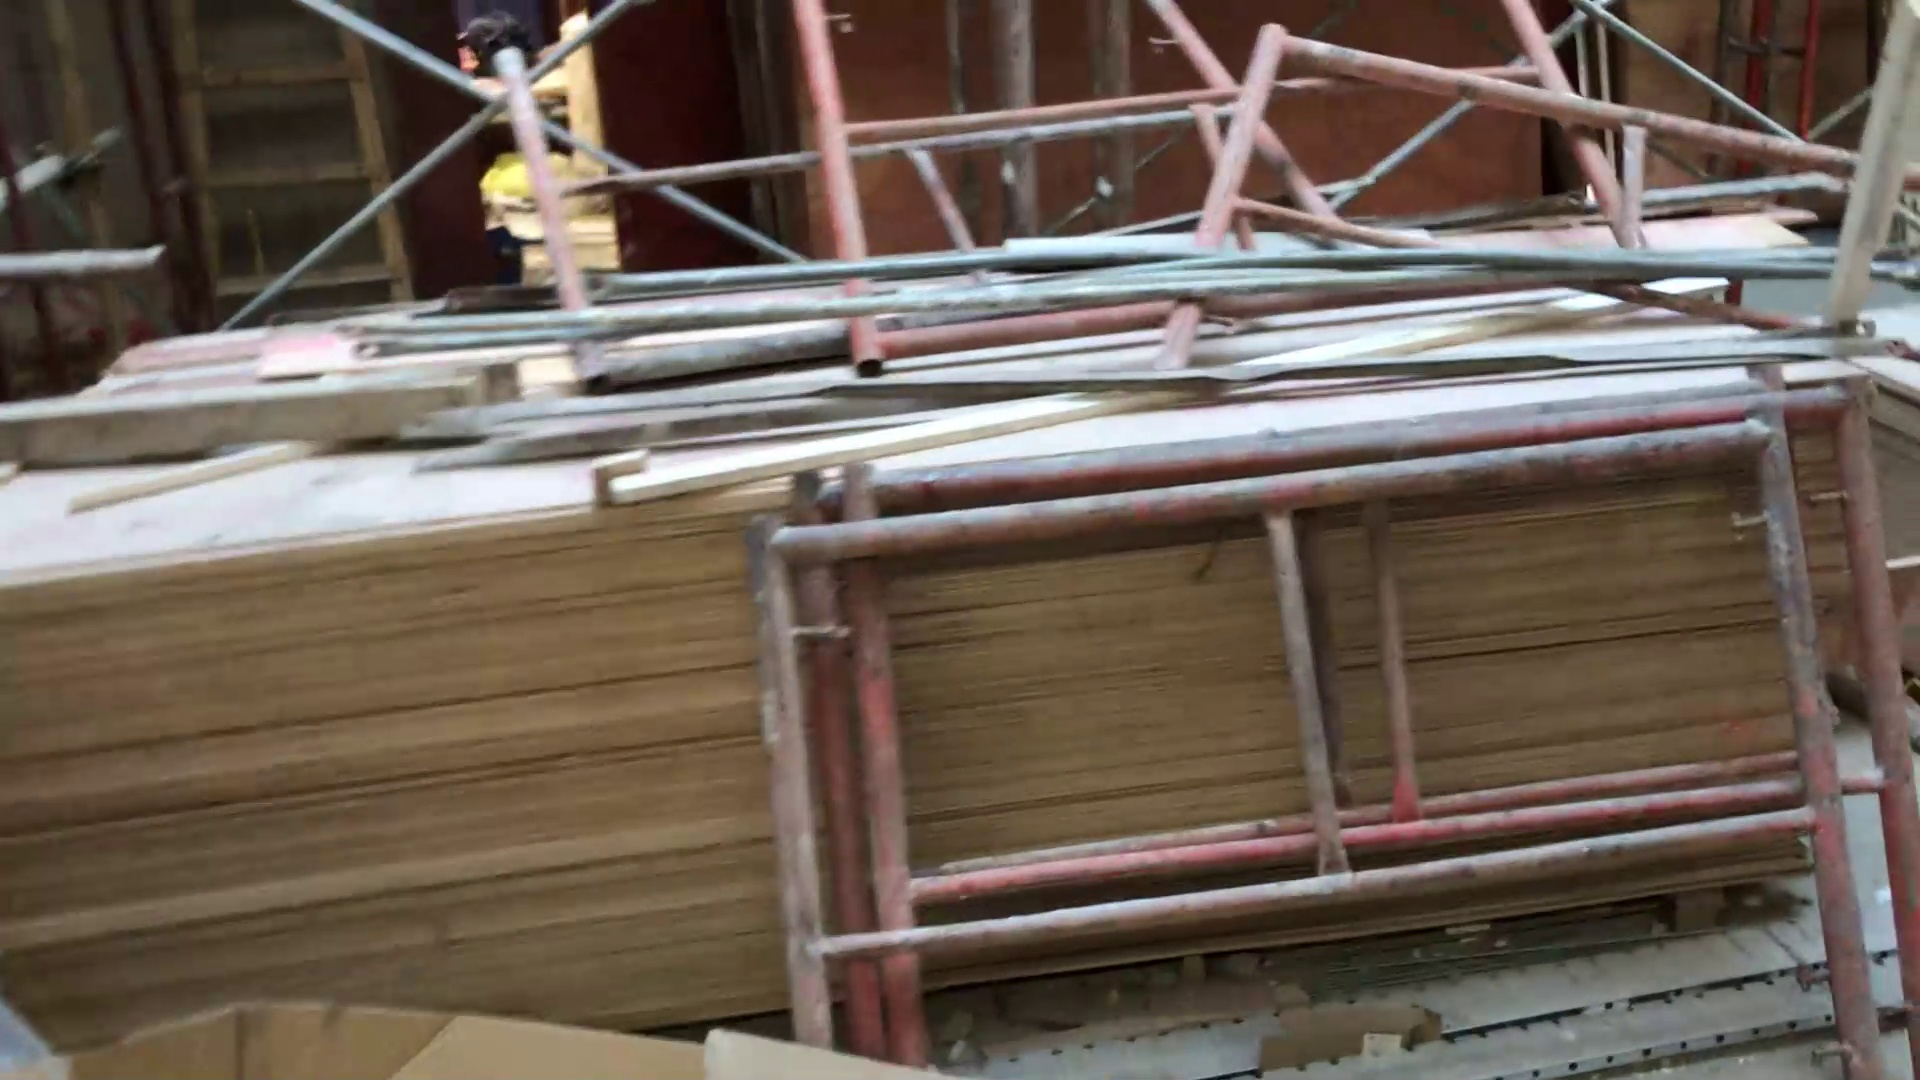board: (15, 436, 1876, 1015)
